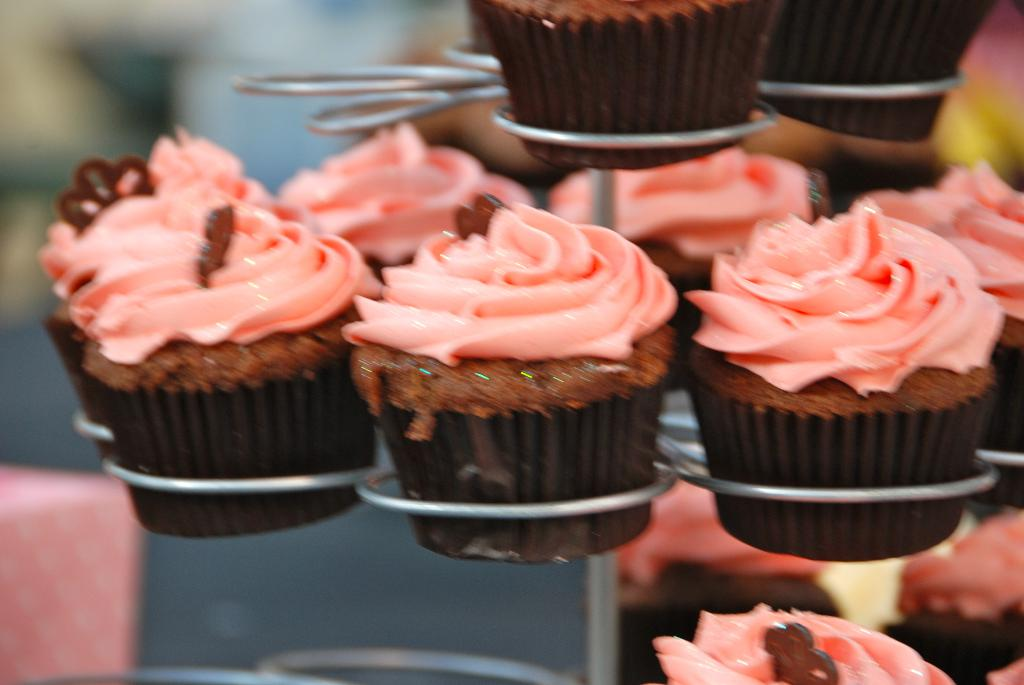cake: (45, 113, 383, 549), (343, 187, 683, 581), (680, 182, 1007, 564), (836, 136, 1023, 487), (586, 475, 859, 681), (536, 146, 833, 324), (458, 0, 784, 161), (273, 117, 523, 267), (641, 589, 973, 684), (884, 496, 1023, 684)
